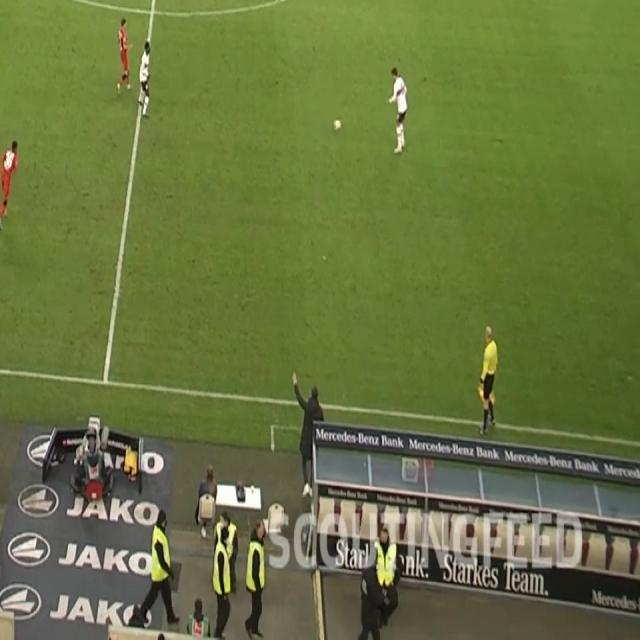ball: (332, 118, 342, 132)
